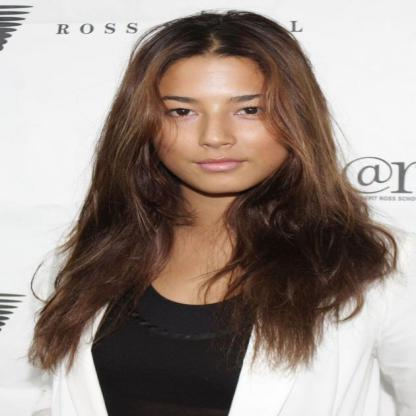long-hair: (70, 197, 376, 252)
